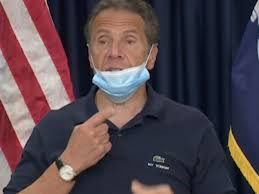mask_weared_incorrect: (86, 10, 156, 104)
